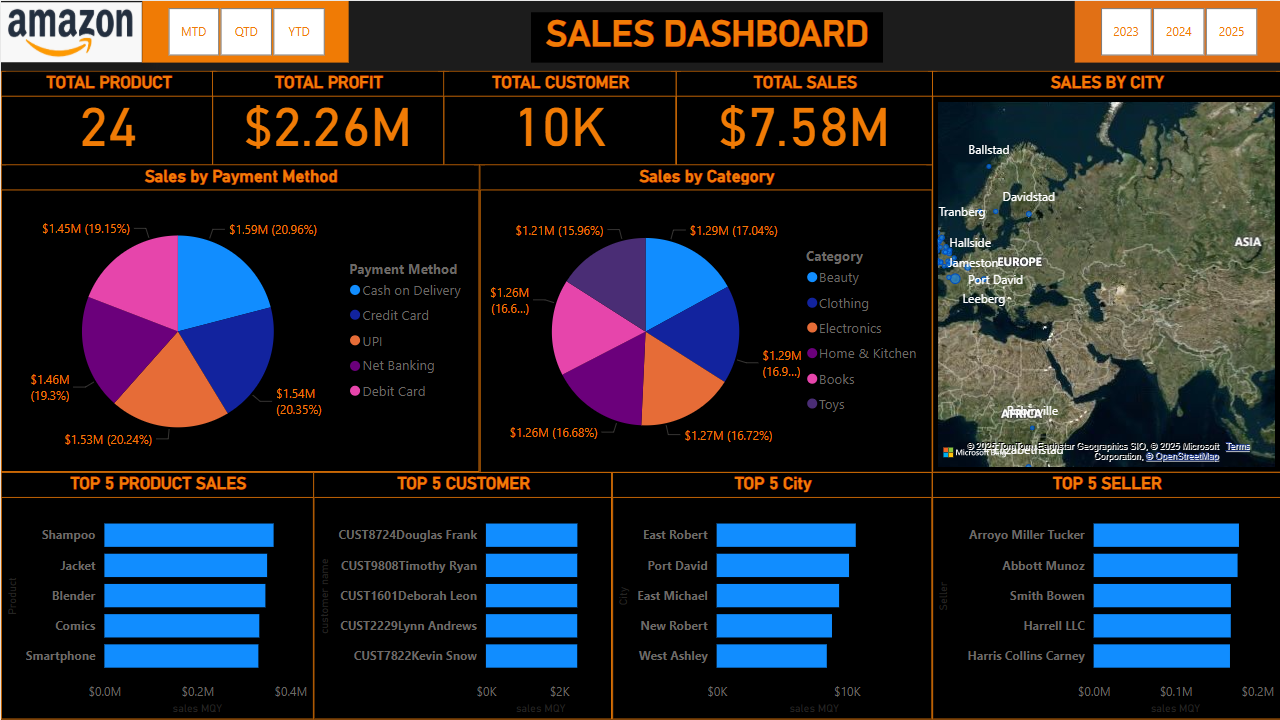

Layout of this report page (visuals, bound fields, positions):
{"tool":"powerbi","page":{"name":"SALES DASHBOARD","canvas":[1280,720],"ordinal":1},"visuals":[{"type":"card","title":"TOTAL PRODUCT","fields":{"Values":["all measures.product MQY"]},"box":[0,70,214.7,94.1],"z":0},{"type":"card","title":"TOTAL PROFIT","fields":{"Values":["all measures.profit MQY"]},"box":[211.1,70,231.6,94.1],"z":1000},{"type":"image","box":[0,1.2,141.2,60.3],"z":2000},{"type":"card","title":"TOTAL CUSTOMER","fields":{"Values":["all measures.customer MQY"]},"box":[442.8,70,232.8,94.1],"z":4000},{"type":"card","title":"TOTAL SALES","fields":{"Values":["all measures.sales MQY"]},"box":[675.6,70,257,94.1],"z":5000},{"type":"pieChart","title":"Sales by Payment Method","fields":{"Category":["dim payment.Payment Method"],"Y":["all measures.sales MQY"]},"box":[0,164.3,478.6,307.1],"z":6000},{"type":"clusteredBarChart","title":"TOP 5 PRODUCT SALES","fields":{"Category":["dim product.Product"],"Y":["all measures.sales MQY"]},"box":[0,471.4,312.9,247.1],"z":7000},{"type":"slicer","fields":{"Values":["dim calendar.year"]},"box":[1073.7,0,206.3,61.5],"z":8000},{"type":"pieChart","title":"Sales by Category","fields":{"Category":["dim product.Category"],"Y":["all measures.sales MQY"]},"box":[479,164.1,452.4,307.6],"z":9000},{"type":"slicer","fields":{"Values":["MQY Table.Column1"]},"box":[141.2,0,206.3,61.5],"z":10000},{"type":"clusteredBarChart","title":"TOP 5 CUSTOMER","fields":{"Category":["dim customer.customer name"],"Y":["all measures.sales MQY"]},"box":[312.9,471.4,298.6,247.1],"z":11000},{"type":"clusteredBarChart","title":"TOP 5 City","fields":{"Category":["dim loation.City"],"Y":["all measures.sales MQY"]},"box":[611.4,471.4,320,247.1],"z":12000},{"type":"clusteredBarChart","title":"TOP 5 SELLER","fields":{"Category":["dim seller.Seller"],"Y":["all measures.sales MQY"]},"box":[931.4,471.4,348.6,247.1],"z":13000},{"type":"textbox","title":"SALES DASHBOARD","box":[529.6,10.9,352.3,50.7],"z":14000},{"type":"map","title":"SALES BY CITY","fields":{"Category":["dim loation.City"],"Size":["all measures.sales MQY"]},"box":[931.4,70,348.7,401.7],"z":15000}]}

Visuals, with their boxes in screenshot pixels (x1, y1, x2, y2), scaled from the page's 1280x720 canvas onto the 1280x720 screenshot:
"TOTAL PRODUCT" card: {"left": 0, "top": 70, "right": 215, "bottom": 164}
"TOTAL PROFIT" card: {"left": 211, "top": 70, "right": 443, "bottom": 164}
image: {"left": 0, "top": 1, "right": 141, "bottom": 62}
"TOTAL CUSTOMER" card: {"left": 443, "top": 70, "right": 676, "bottom": 164}
"TOTAL SALES" card: {"left": 676, "top": 70, "right": 933, "bottom": 164}
"Sales by Payment Method" pieChart: {"left": 0, "top": 164, "right": 479, "bottom": 471}
"TOP 5 PRODUCT SALES" clusteredBarChart: {"left": 0, "top": 471, "right": 313, "bottom": 718}
slicer - dim calendar.year: {"left": 1074, "top": 0, "right": 1279, "bottom": 62}
"Sales by Category" pieChart: {"left": 479, "top": 164, "right": 931, "bottom": 472}
slicer - MQY Table.Column1: {"left": 141, "top": 0, "right": 348, "bottom": 62}
"TOP 5 CUSTOMER" clusteredBarChart: {"left": 313, "top": 471, "right": 612, "bottom": 718}
"TOP 5 City" clusteredBarChart: {"left": 611, "top": 471, "right": 931, "bottom": 718}
"TOP 5 SELLER" clusteredBarChart: {"left": 931, "top": 471, "right": 1279, "bottom": 718}
"SALES DASHBOARD" textbox: {"left": 530, "top": 11, "right": 882, "bottom": 62}
"SALES BY CITY" map: {"left": 931, "top": 70, "right": 1279, "bottom": 472}
